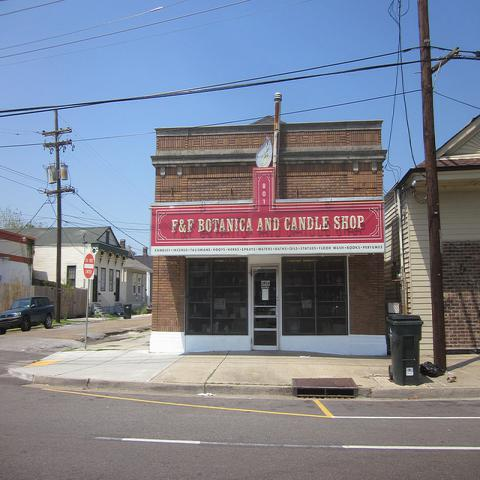car: (0, 296, 56, 334)
